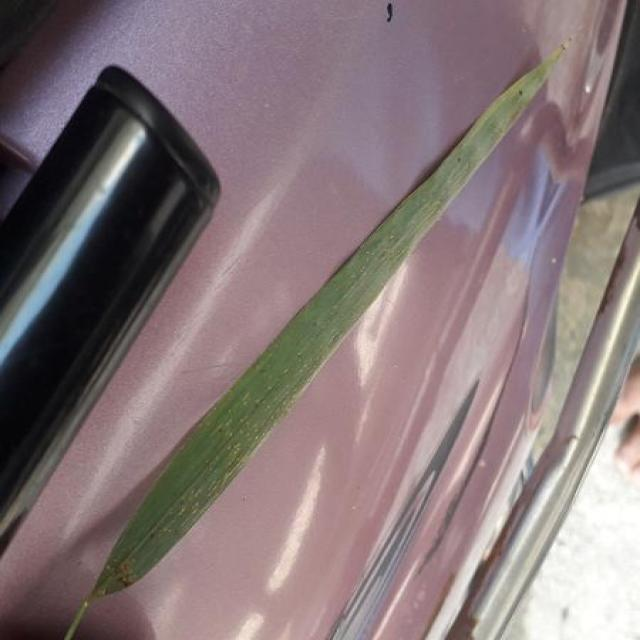Bamboo: (92, 42, 566, 598)
